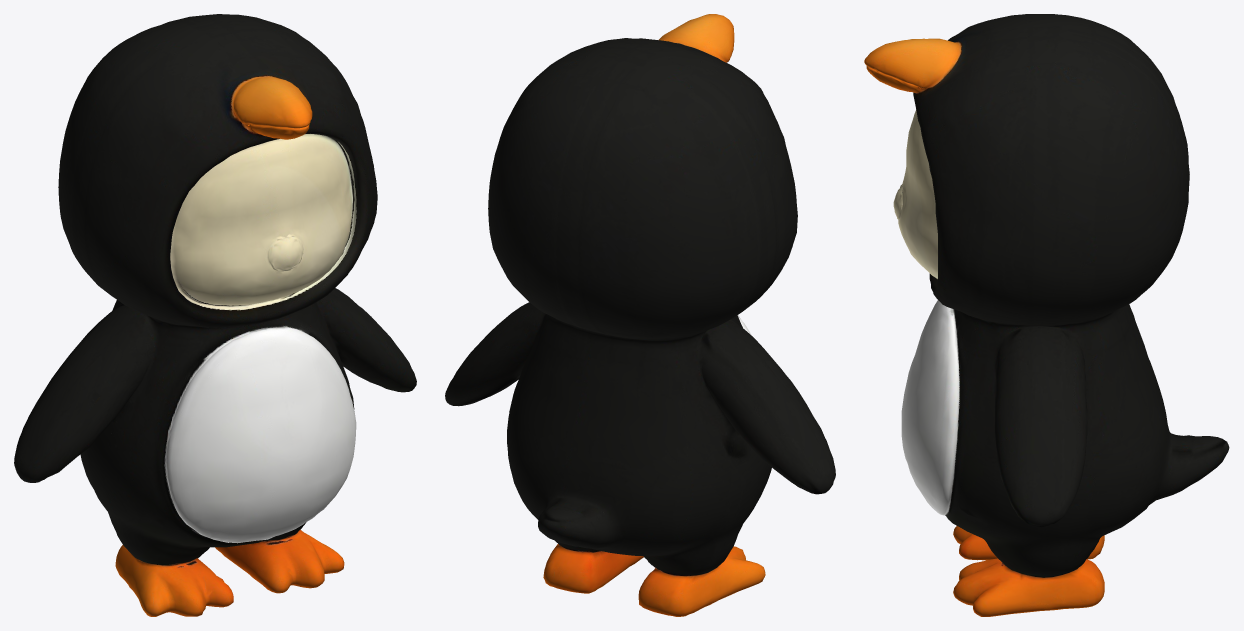
Rendered from penguin.glb.
3 renders of one model, left to right at view 1: azimuth 30°, elevation 25°; view 2: azimuth 150°, elevation 25°; view 3: azimuth 270°, elevation 25°, orthographic. The views are drawn at different scales.
Parts seen in each view (by area): view 1: tripo_node_a0a46c7d-9086-473d-828e-b7343ded3391; view 2: tripo_node_a0a46c7d-9086-473d-828e-b7343ded3391; view 3: tripo_node_a0a46c7d-9086-473d-828e-b7343ded3391.
Boxes of the visible parts, x1,y1,x2,y2 form: tripo_node_a0a46c7d-9086-473d-828e-b7343ded3391: (14,14,416,616); tripo_node_a0a46c7d-9086-473d-828e-b7343ded3391: (445,14,835,616); tripo_node_a0a46c7d-9086-473d-828e-b7343ded3391: (864,14,1229,616).
Bounding box in the file's own units: 0.7405 × 0.9778 × 0.5989.
Materials: 1 (1 with a texture image).
